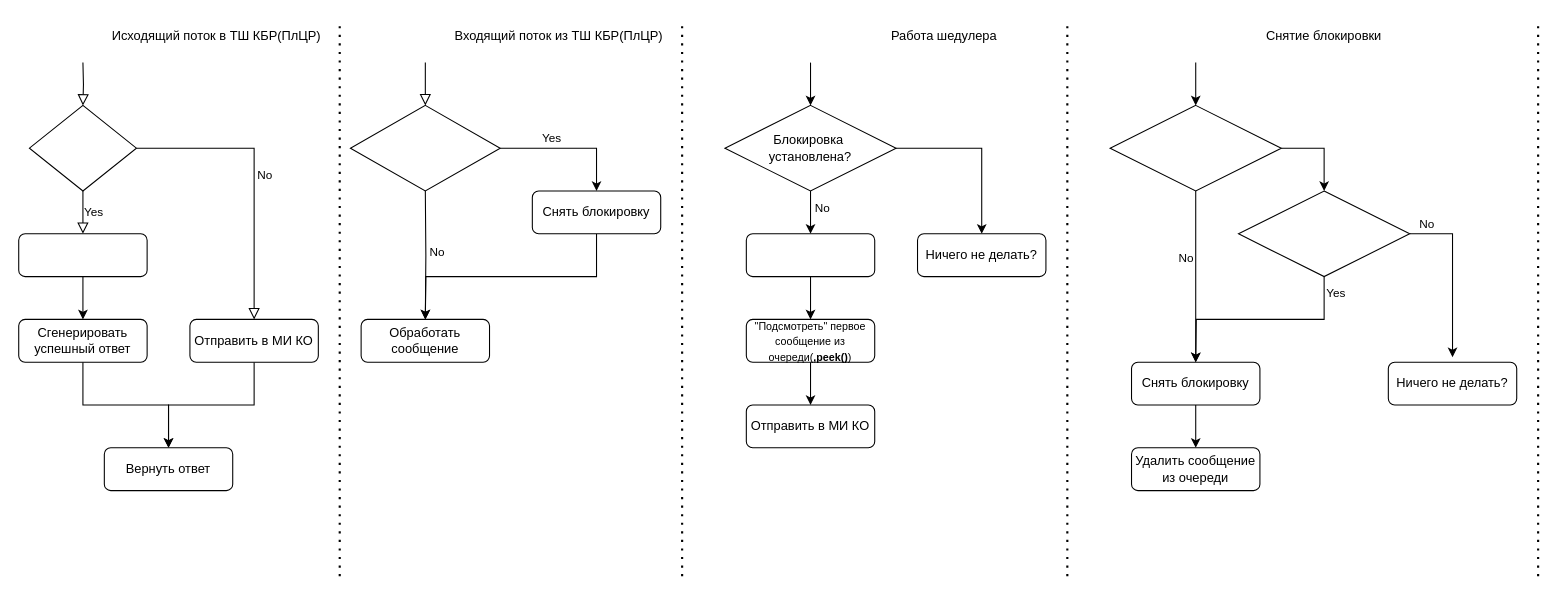
This 1559x596 diagram has some shape labels left out. The centre of each missing label's shape, as x and y in pixels:
"666.StatusReport?" belongs at [1195,147].
"OperId Совпадают?" belongs at [1323,233].
"Блокировать?" belongs at [82,147].
"Добавить в очередь" belongs at [82,255].
"Заблокированное сообщение?" belongs at [424,147].
"Установить блокировку" belongs at [810,255].
